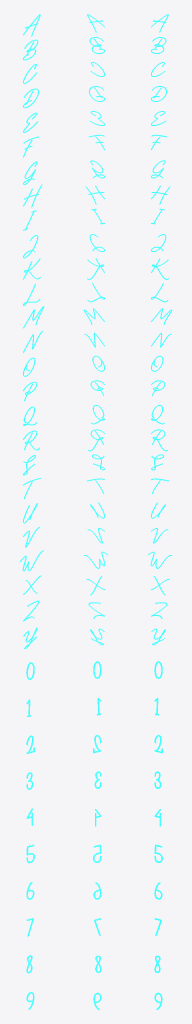
The model's file is CursiveLetter.fbx.
The picture shows the model from 3 angles, left to right: view 1: azimuth 30°, elevation 25°; view 2: azimuth 210°, elevation 25°; view 3: azimuth 330°, elevation 25°; orthographic projection.
Size of the model in its own units: 104 by 4067 by 3.
